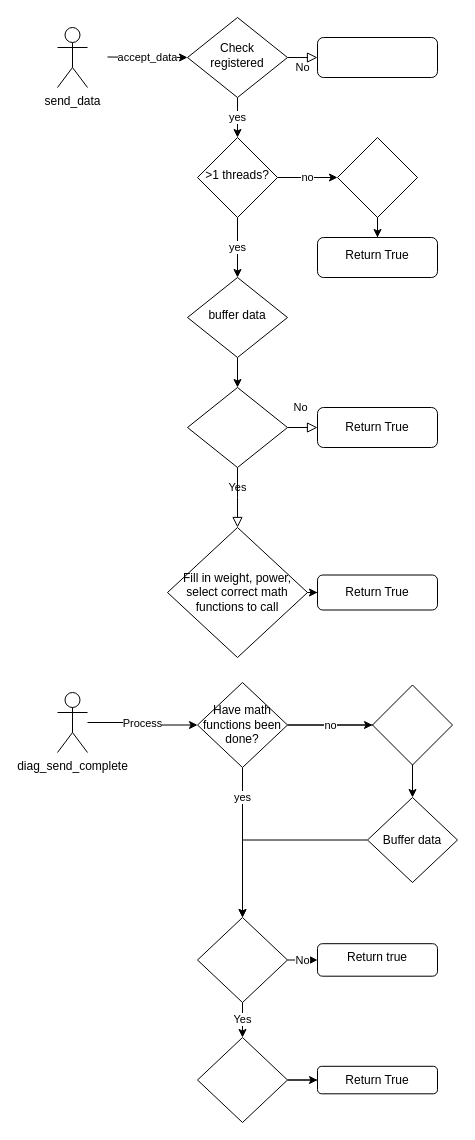
Image size: 475x1140. Some labels were removed from this diagram. Here are the shapes that lost their labels. From the top down, the box of each, then its label:
(316, 36, 438, 78): Return false
(336, 136, 418, 218): math functions and buffer
(186, 386, 288, 468): Is this the first run through?
(372, 684, 452, 765): do math function
(196, 916, 288, 1002): Time to write?
(196, 1036, 288, 1122): Write output
